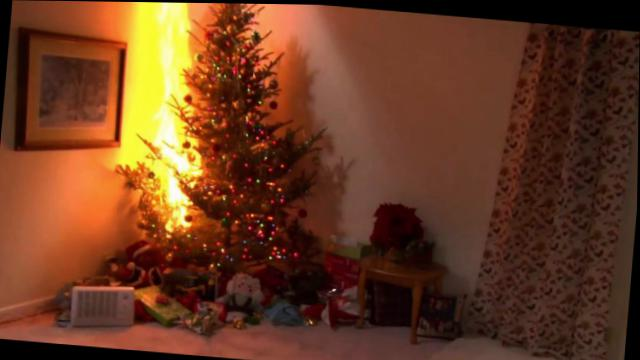fire: (122, 1, 221, 232)
